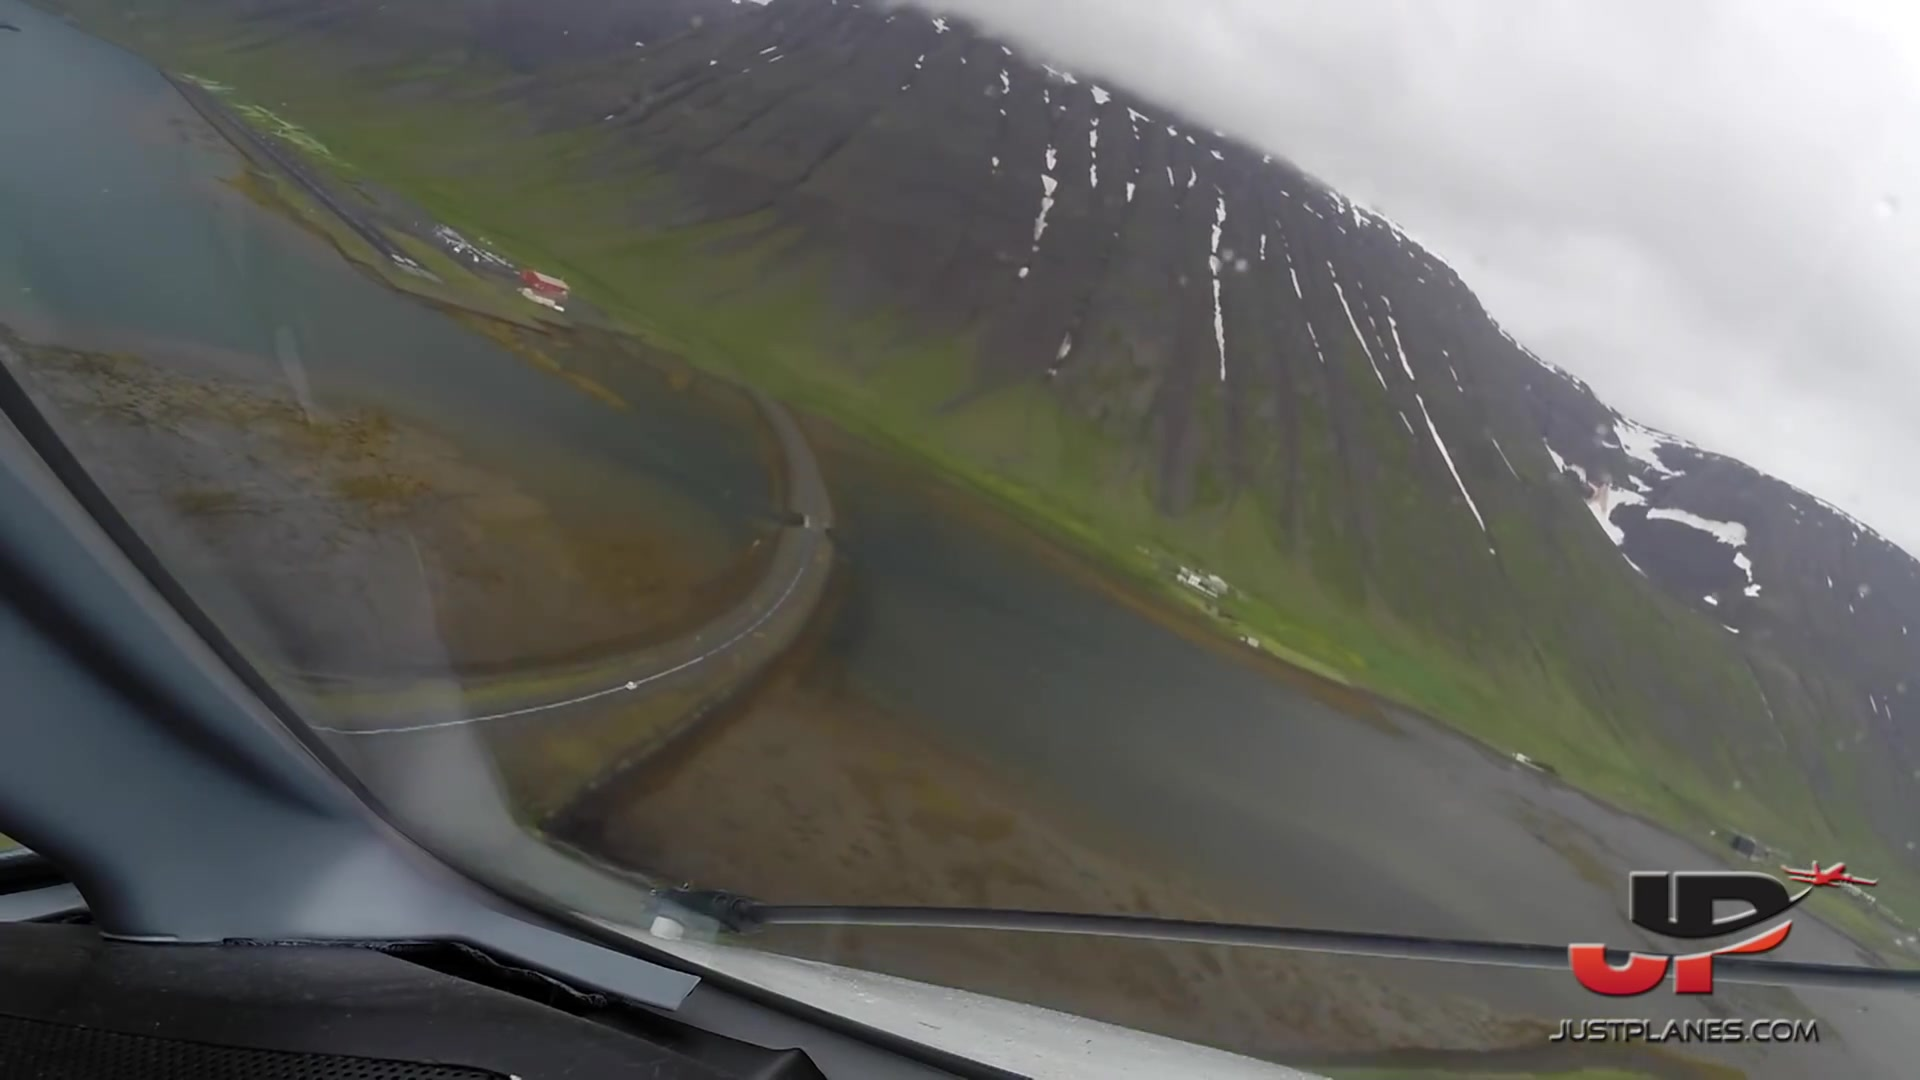runway: (294, 174, 448, 286)
